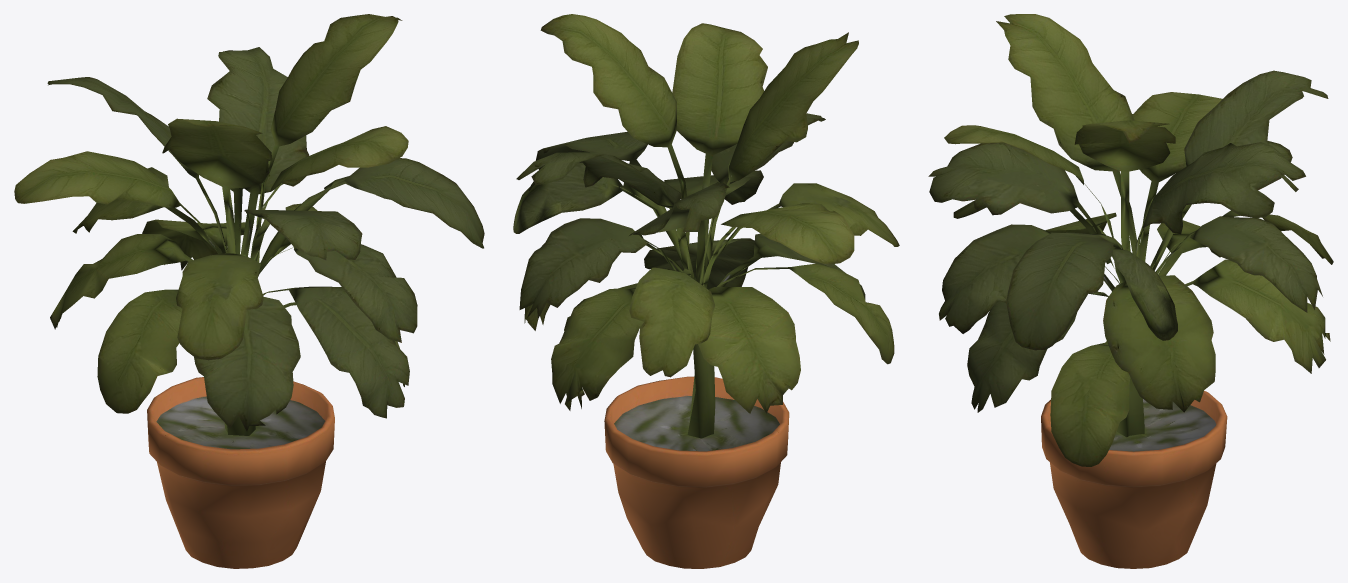
File: plant.glb
3 views of the same model, side by side, from view 1: azimuth 30°, elevation 25°; view 2: azimuth 150°, elevation 25°; view 3: azimuth 270°, elevation 25° (orthographic).
Visible parts, largest first — view 1: tripo_node_af99a7c0-5c86-4ca8-a0e4-693ecba9f668; view 2: tripo_node_af99a7c0-5c86-4ca8-a0e4-693ecba9f668; view 3: tripo_node_af99a7c0-5c86-4ca8-a0e4-693ecba9f668.
Part boxes in pixels (box(x1,y1,x2,y2)): tripo_node_af99a7c0-5c86-4ca8-a0e4-693ecba9f668: box(14, 14, 484, 568); tripo_node_af99a7c0-5c86-4ca8-a0e4-693ecba9f668: box(513, 14, 899, 568); tripo_node_af99a7c0-5c86-4ca8-a0e4-693ecba9f668: box(928, 14, 1333, 568).
Size of the model in its own units: 0.8223 by 0.998 by 0.752.
1 material, 1 textured.
